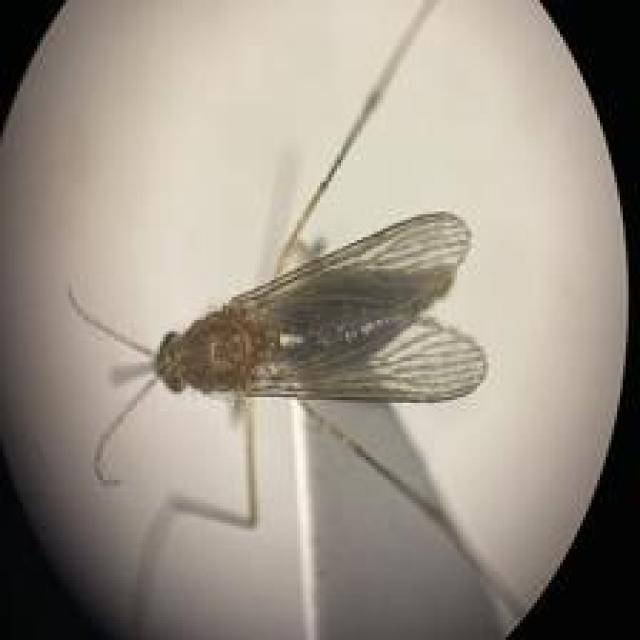Culex: (64, 0, 519, 640)
